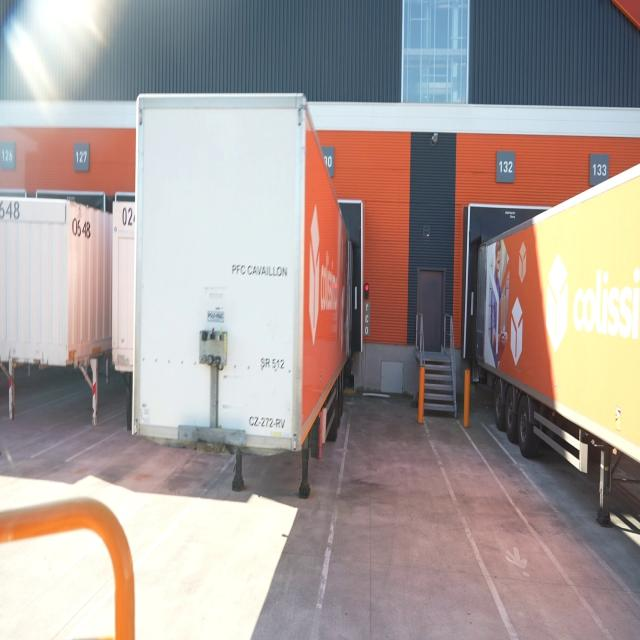Code: (68, 213, 95, 243)
